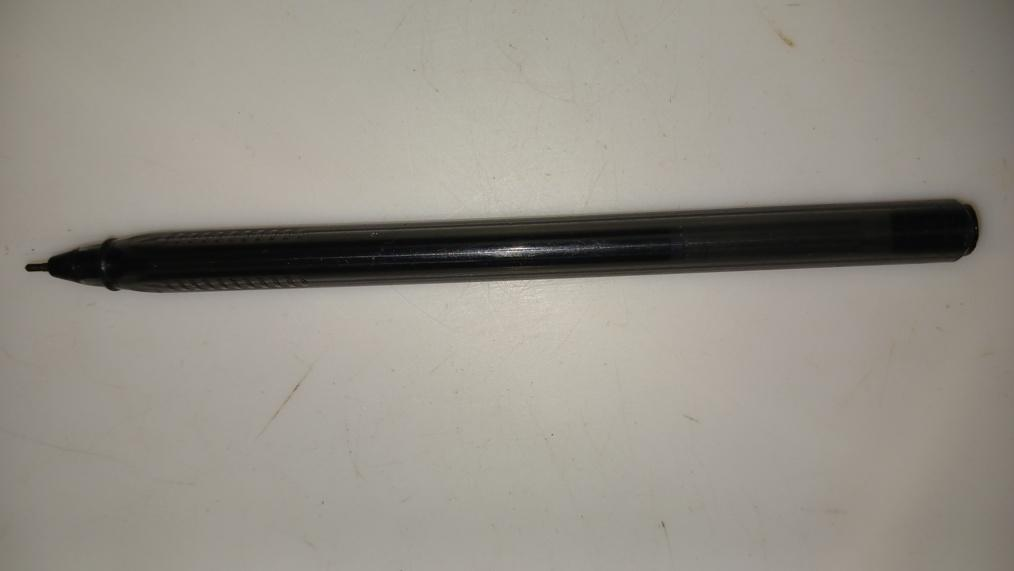pen: (24, 202, 986, 292)
